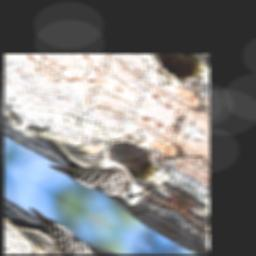Woodpecker: (25, 106, 166, 225)
